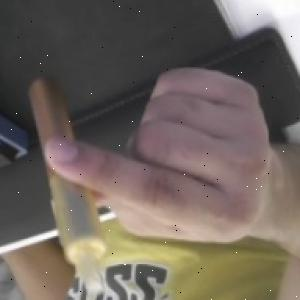Golden-E-Ciggirate: (24, 71, 113, 297)
